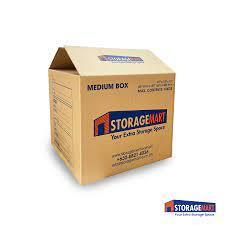box: (46, 45, 175, 188)
